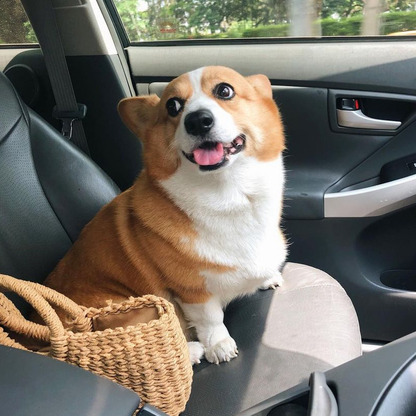Corgi: (96, 63, 299, 355)
